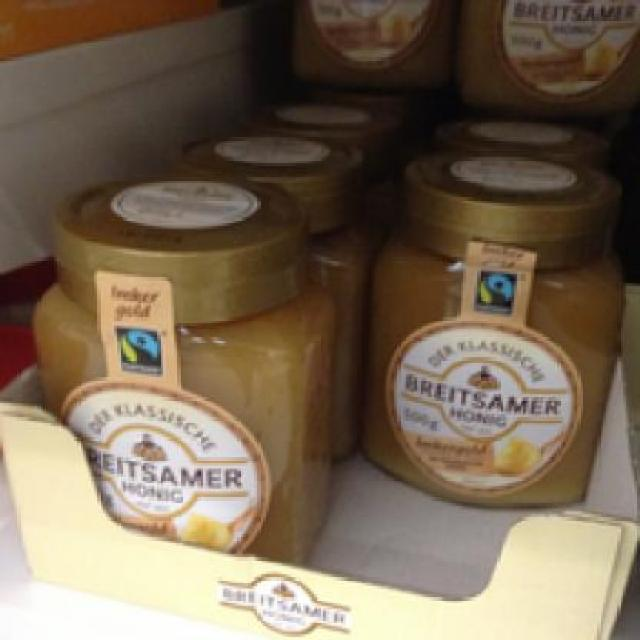Honey: (29, 175, 337, 574), (366, 140, 626, 514)
